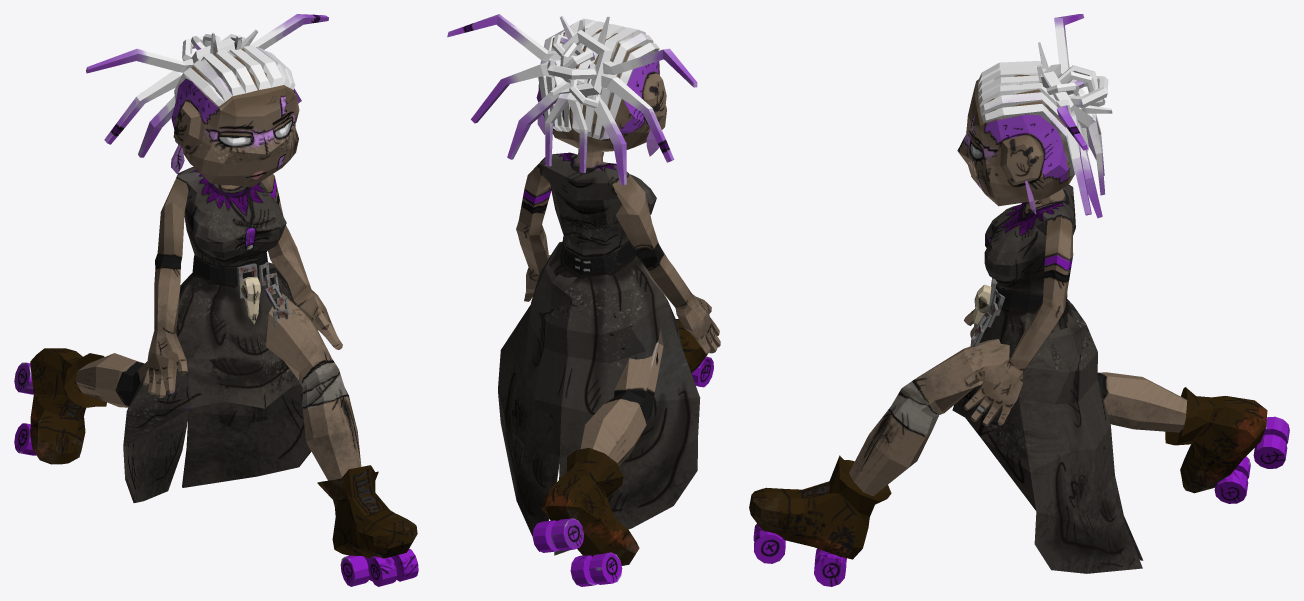
Rendered from bruja_000002.obj.
The picture shows the model from 3 angles, left to right: view 1: azimuth 30°, elevation 25°; view 2: azimuth 150°, elevation 25°; view 3: azimuth 270°, elevation 25°; orthographic projection. The views are drawn at different scales.
Visible parts, largest first — view 1: Bruja_Plane.001; view 2: Bruja_Plane.001; view 3: Bruja_Plane.001.
Boxes of the visible parts, box(x1,y1,x2,y2) form: Bruja_Plane.001: box(14, 14, 418, 586); Bruja_Plane.001: box(447, 14, 720, 586); Bruja_Plane.001: box(749, 14, 1289, 586).
Size of the model in its own units: 7.47 by 14.5 by 13.75.
